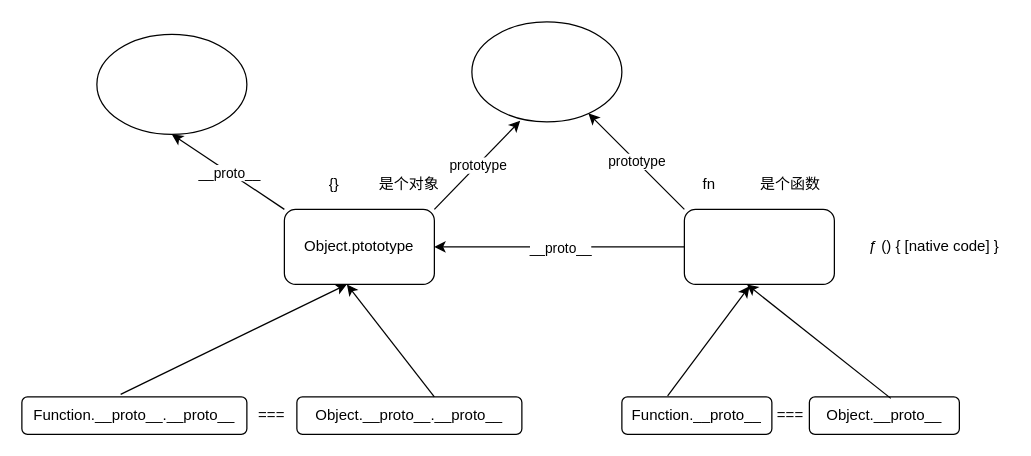
Some shapes in this 1031 by 456 pixel diagram are drawn without their labels. Here are the shapes that lost their labels. From the top down, the centre of each, then its label:
the point at 171,83: null
the point at 546,71: undefined
the point at 758,246: Function.prototype
